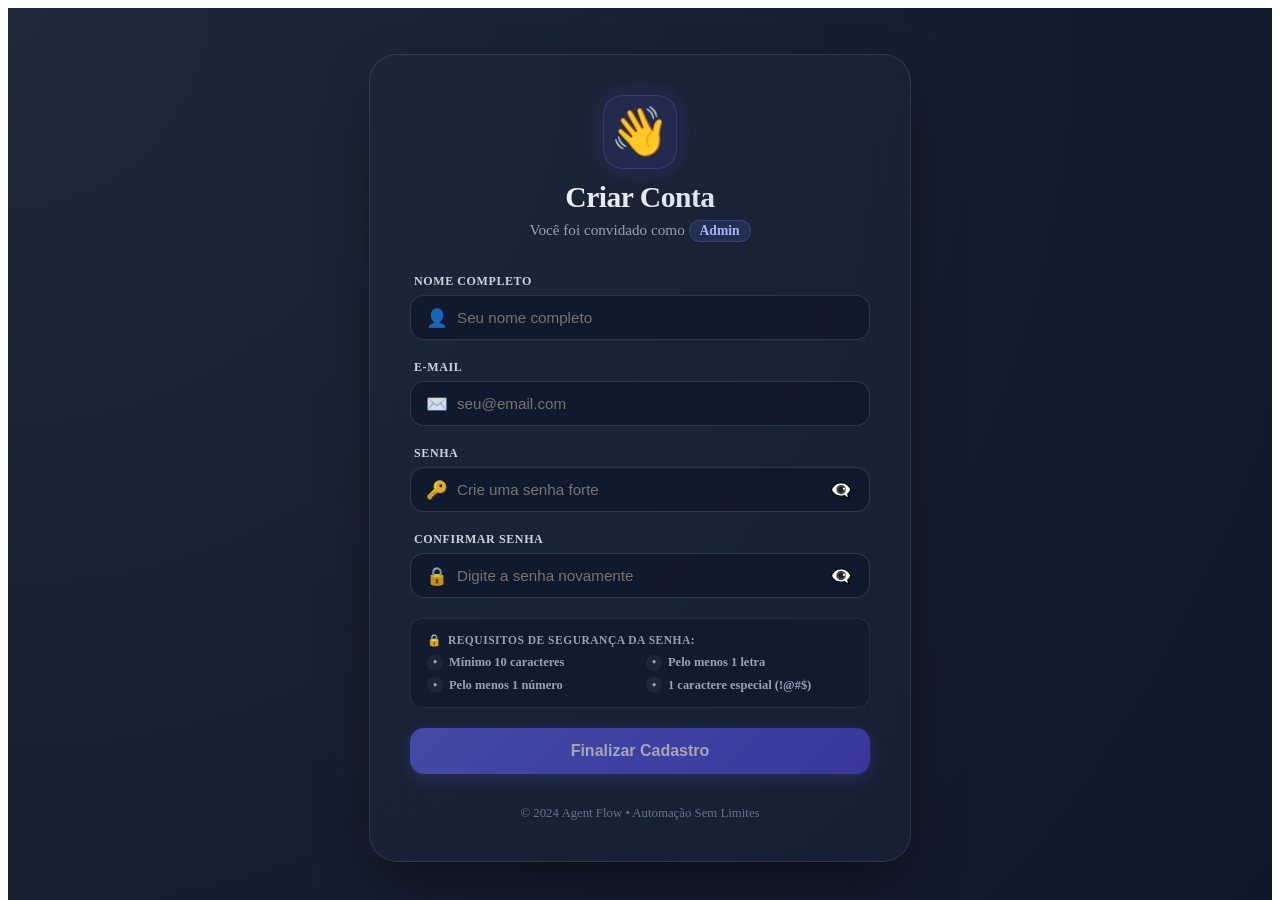
Register Component › deve exibir erro se o email ja estiver em uso
Expected: the heading "Criar Conta" is shown, [410, 181, 870, 214]
Type "Maria Silva" into the field with placeholder "Seu nome completo" at (640, 318), box [410, 295, 870, 340]
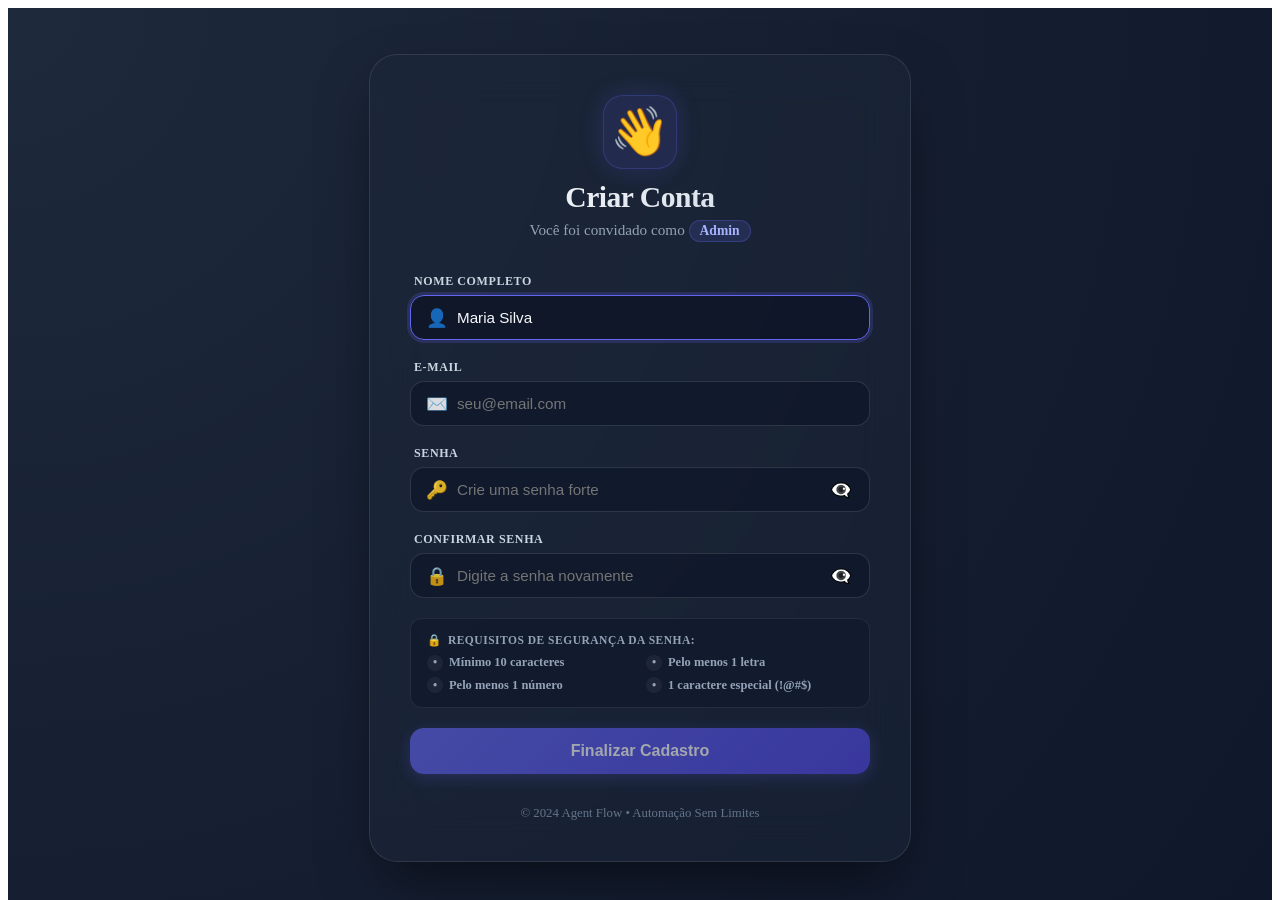
Type "maria@silva.com" into the field with placeholder "seu@email.com" at (640, 404), box [410, 381, 870, 426]
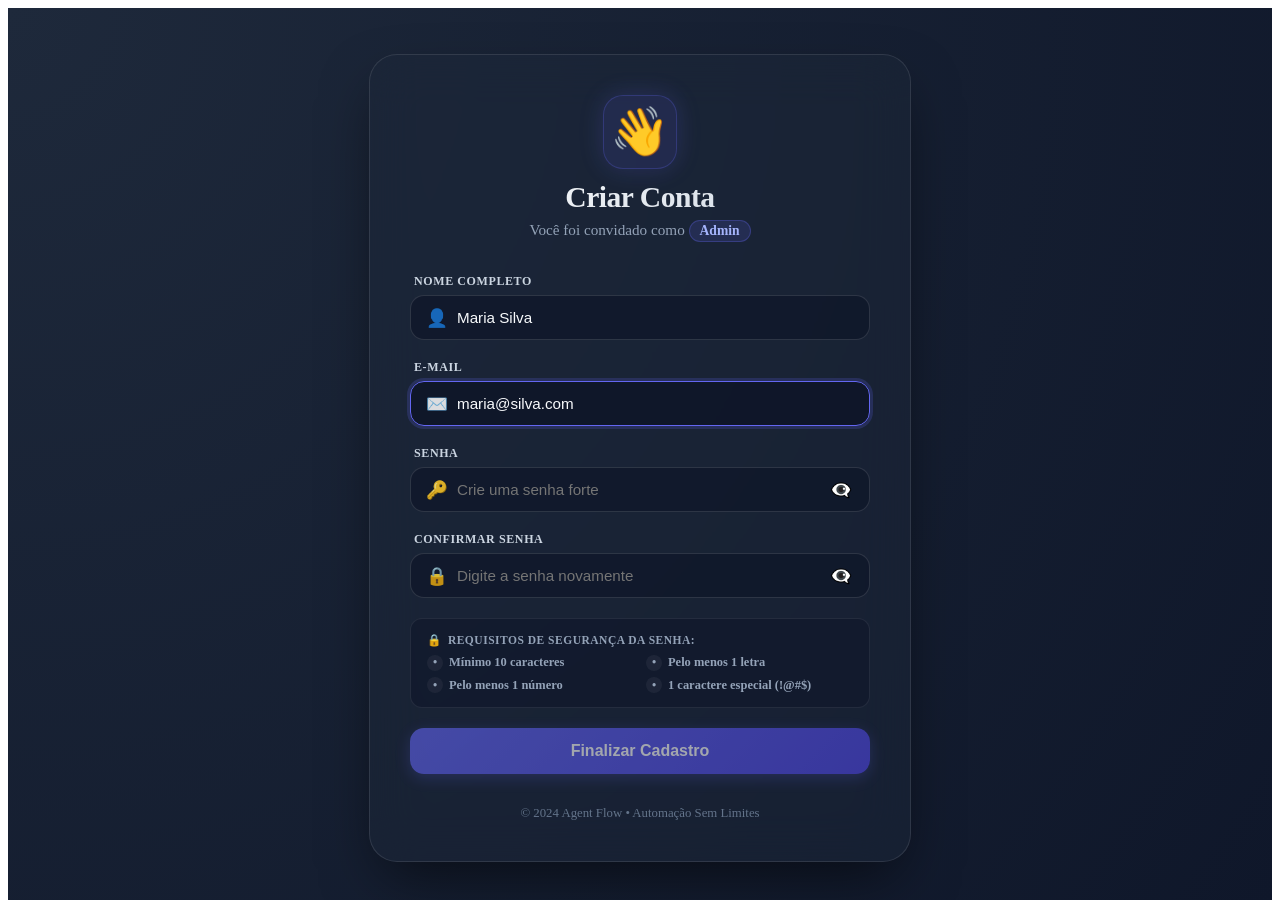
Type "Senha@Forte2026" into the password field with placeholder "Crie uma senha forte" at (640, 490), box [410, 467, 870, 512]
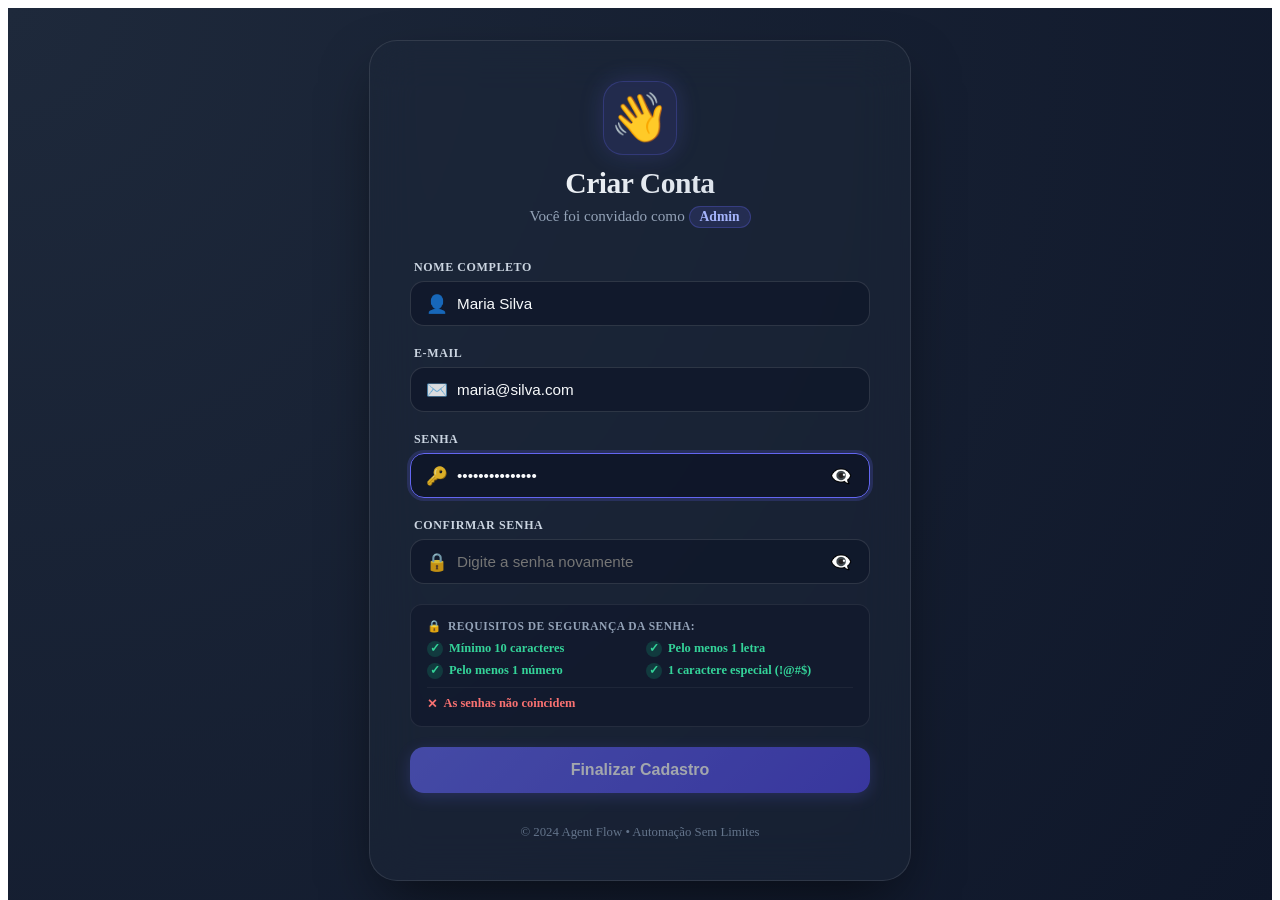
Type "Senha@Forte2026" into the password field with placeholder "Digite a senha novamente" at (640, 562), box [410, 539, 870, 584]
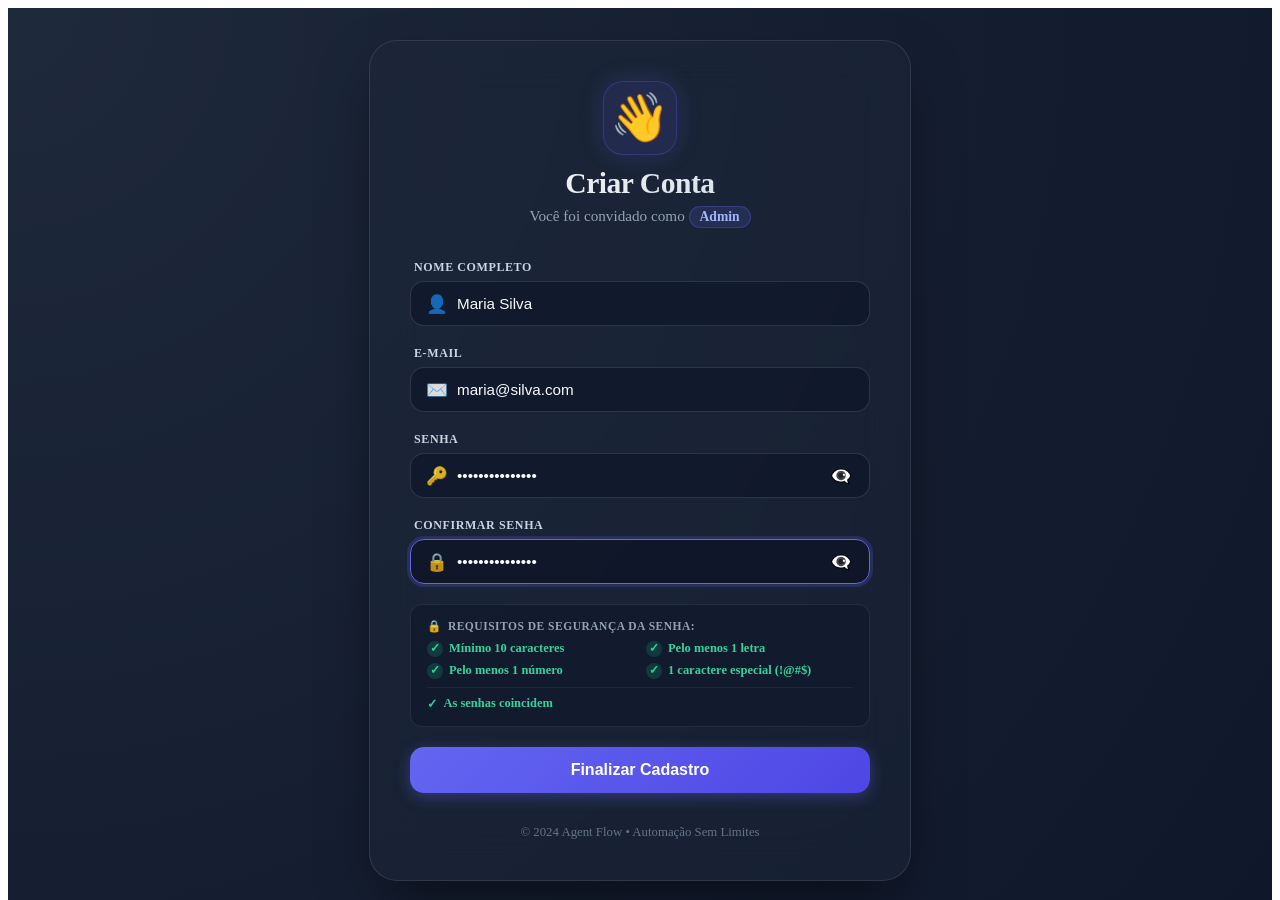
Result: the button "Finalizar Cadastro" is enabled at [410, 747, 870, 793]
Submit the text "Finalizar Cadastro", box [410, 260, 870, 793]
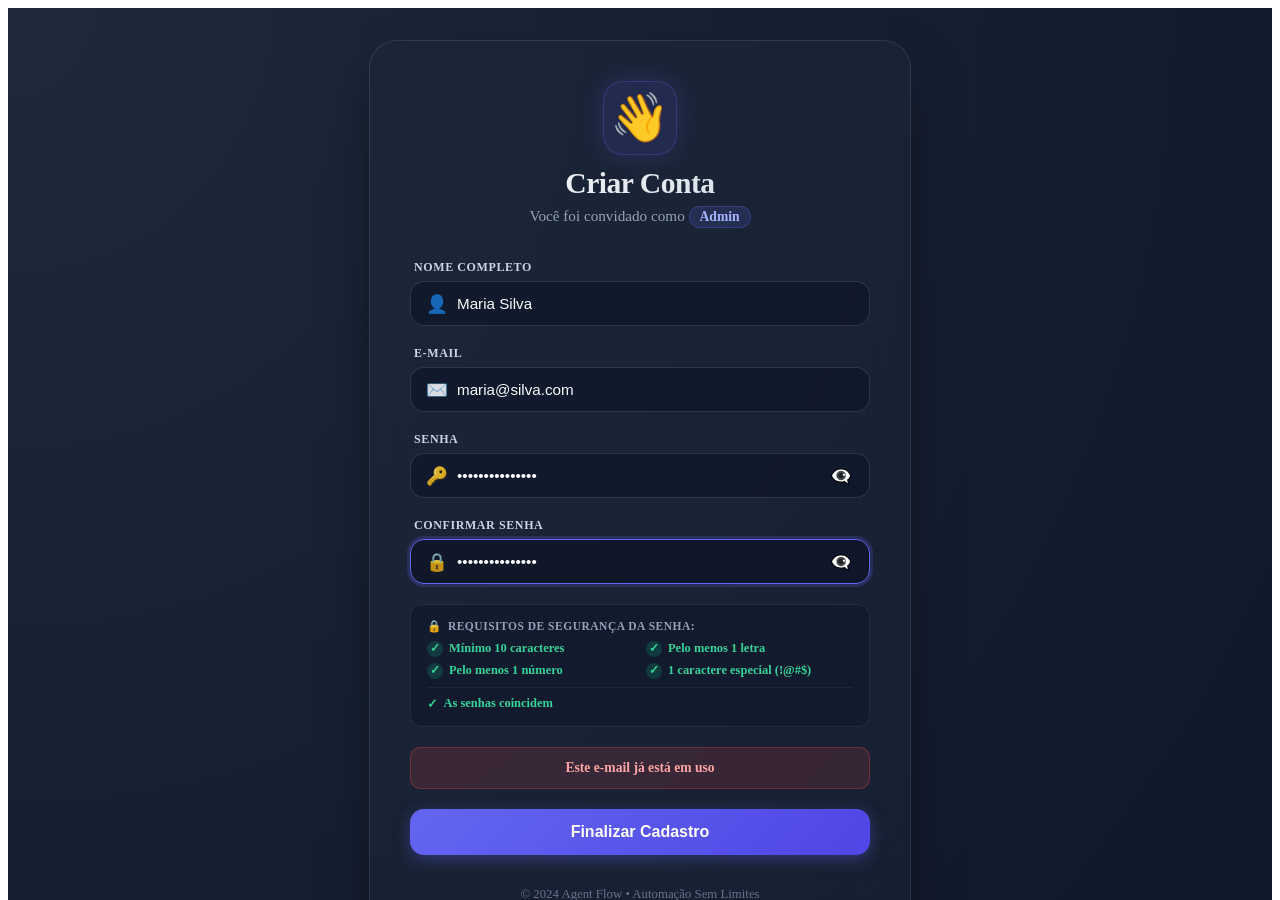
Result: the text "Este e-mail já está em uso" is shown at [410, 747, 870, 789]
